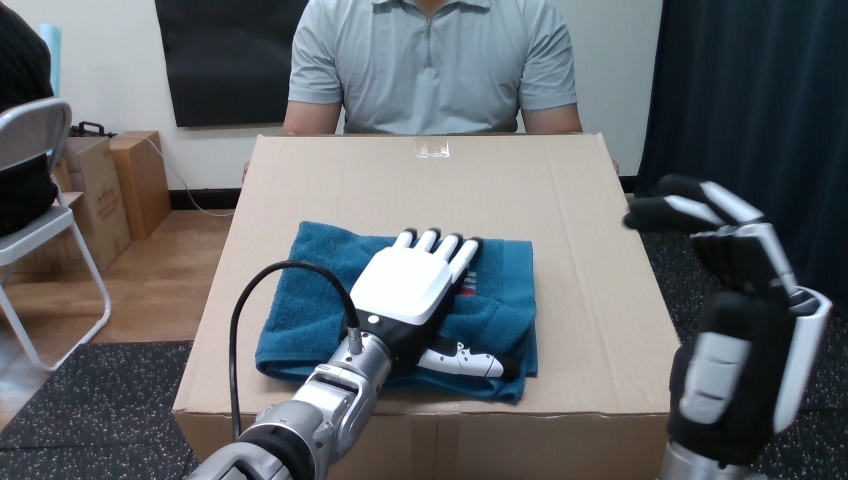left robot hand: (188, 230, 478, 479), (624, 174, 831, 479)
